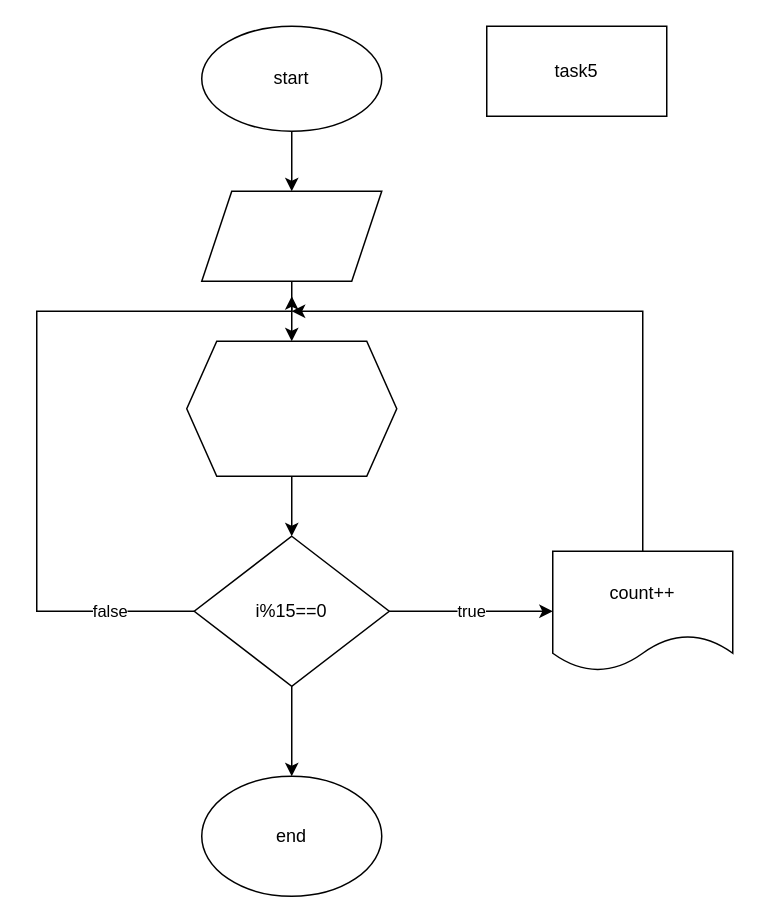
This 759x923 diagram has some shape labels left out. Each missing label, with the box of its shape:
int i=0;i<M;i++: (185, 340, 397, 476)
int M=200 int count: (200, 190, 382, 281)
